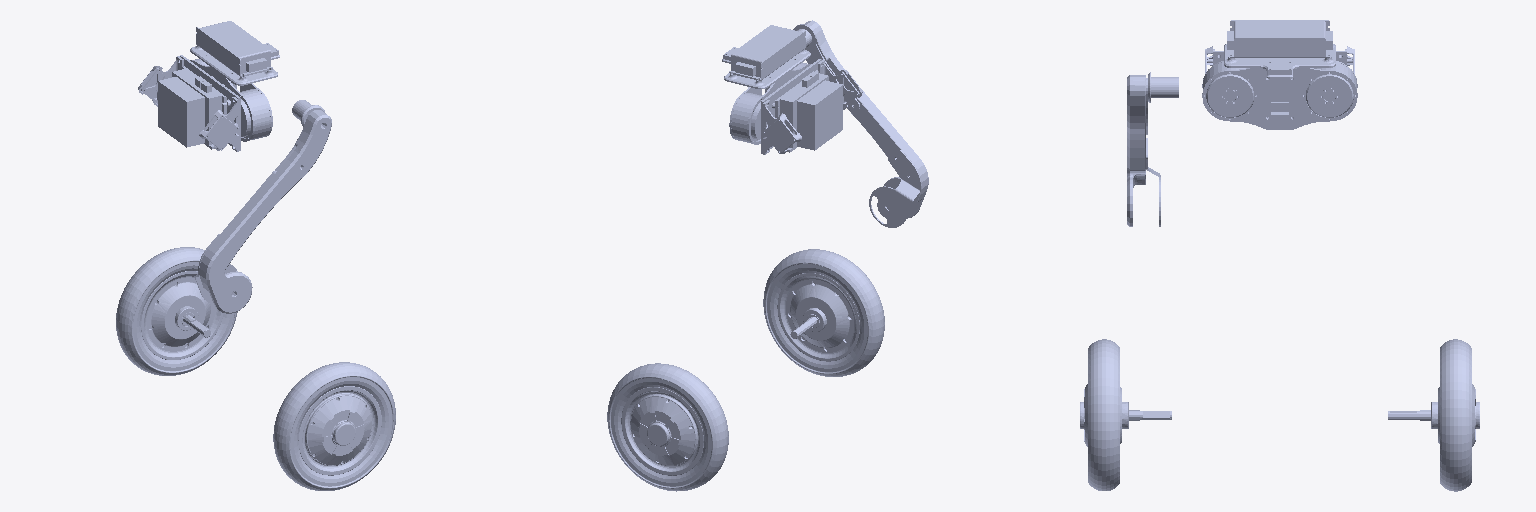
robot.urdf — postech:
<?xml version="1.0" encoding="utf-8"?>
<!-- This URDF was automatically created by SolidWorks to URDF Exporter! Originally created by [author] ([email redacted]) 
     Commit Version: 1.6.0-4-g7f85cfe  Build Version: 1.6.7995.38578
     For more information, please see http://wiki.ros.org/sw_urdf_exporter -->
<robot
  name="postech">
  <link
    name="base_link">
    <inertial>
      <origin
        xyz="-0.0142272515774434 0.0101542033488006 -0.0630295999662357"
        rpy="0 0 0" />
      <mass
        value="6.62193156601497" />
      <inertia
        ixx="0.0308406147889979"
        ixy="-4.33334637561888E-06"
        ixz="-0.000254438591214876"
        iyy="0.0522715304285259"
        iyz="4.98143371539839E-06"
        izz="0.0754369896094162" />
    </inertial>
    <visual>
      <origin
        xyz="0 0 0"
        rpy="0 0 0" />
      <geometry>
        <mesh
          filename="../meshes/base_link.STL" />
      </geometry>
      <material
        name="">
        <color
          rgba="0.7921156862745098 0.819607843137255 0.933333333333333 1" />
      </material>
    </visual>
    <collision>
      <origin
        xyz="0 0 0"
        rpy="0 0 0" />
      <geometry>
        <mesh
          filename="../meshes/base_link.STL" />
      </geometry>
    </collision>
  </link>
  <!-- <link
    name="caster_link">
    <inertial>
      <origin
        xyz="0.018332520349586 -0.00366899369316767 0.0442369188938376"
        rpy="0 0 0" />
      <mass
        value="0.189848673195412" />
      <inertia
        ixx="0.000146524203814338"
        ixy="9.21819088189789E-06"
        ixz="-4.4919545007239E-05"
        iyy="0.000190740411051331"
        iyz="8.98968883326603E-06"
        izz="9.15330362508012E-05" />
    </inertial>
    <visual>
      <origin
        xyz="0 0 0"
        rpy="0 0 0" />
      <geometry>
        <mesh
          filename="../meshes/caster_link.STL" />
      </geometry>
      <material
        name="">
        <color
          rgba="0.792156862745098 0.819607843137255 0.933333333333333 1" />
      </material>
    </visual>
    <collision>
      <origin
        xyz="0 0 0"
        rpy="0 0 0" />
      <geometry>
        <mesh
          filename="../meshes/caster_link.STL" />
      </geometry>
    </collision>
  </link>
  <joint
    name="caster_joint"
    type="continuous">
    <origin
      xyz="0.3704 1.1432E-05 -0.11698"
      rpy="3.1416 0 0" />
    <parent
      link="base_link" />
    <child
      link="caster_link" />
    <axis
      xyz="0 0 1" />
    <limit
      effort="100"
      velocity="100" />
    <dynamics
      damping="0.0"
      friction="0.1" />
  </joint> -->
  <!-- <link
    name="scan_link">
    <inertial>
      <origin
        xyz="-4.2579680269994E-06 6.87757630013497E-08 -0.0155239251610854"
        rpy="0 0 0" />
      <mass
        value="0.108819249731694" />
      <inertia
        ixx="4.18429855029974E-05"
        ixy="-2.03050714439245E-10"
        ixz="-4.95073432009731E-09"
        iyy="4.18311603460125E-05"
        iyz="7.27299639414082E-11"
        izz="4.16831773936327E-05" />
    </inertial>
    <visual>
      <origin
        xyz="0 0 0"
        rpy="0 0 0" />
      <geometry>
        <mesh
          filename="../meshes/scan_link.STL" />
      </geometry>
      <material
        name="">
        <color
          rgba="0.792156862745098 0.819607843137255 0.933333333333333 1" />
      </material>
    </visual>
    <collision>
      <origin
        xyz="0 0 0"
        rpy="0 0 0" />
      <geometry>
        <mesh
          filename="../meshes/scan_link.STL" />
      </geometry>
    </collision>
  </link>
  <joint
    name="scan_joint"
    type="fixed">
    <origin
      xyz="-0.27341 0.00068596 0.036603"
      rpy="0 0 3.1416" />
    <parent
      link="base_link" />
    <child
      link="scan_link" />
    <axis
      xyz="0 0 0" />
  </joint> -->
  <link
    name="hip_r_link">
    <inertial>
      <origin
        xyz="-0.113080613473018 -0.137388764509428 0.0151988458264695"
        rpy="0 0 0" />
      <mass
        value="0.522076277648095" />
      <inertia
        ixx="0.00367939501373221"
        ixy="-0.0029197232425838"
        ixz="2.71752802177092E-05"
        iyy="0.00280686433355758"
        iyz="5.54555010993616E-05"
        izz="0.00640188889264564" />
    </inertial>
    <visual>
      <origin
        xyz="0 0 0"
        rpy="0 0 0" />
      <geometry>
        <mesh
          filename="../meshes/hip_r_link.STL" />
      </geometry>
      <material
        name="">
        <color
          rgba="0.792156862745098 0.819607843137255 0.933333333333333 1" />
      </material>
    </visual>
    <collision>
      <origin
        xyz="0 0 0"
        rpy="0 0 0" />
      <geometry>
        <mesh
          filename="../meshes/hip_r_link.STL" />
      </geometry>
    </collision>
  </link>
  <joint
    name="hip_r_joint"
    type="revolute">
    <origin
      xyz="-0.020921 -0.212 -0.04807"
      rpy="1.5708 0 0" />
    <parent
      link="base_link" />
    <child
      link="hip_r_link" />
    <axis
      xyz="0 0 1" />
    <limit
      lower="-0.523599"
      upper="0.523599"
      effort="200"
      velocity="200" />
    <dynamics
      damping="0.0"
      friction="0.0" />
  </joint>
  <link
    name="knee_r_link">
    <inertial>
      <origin
        xyz="0.10997 -0.16949 -0.032058"
        rpy="0 0 0" />
      <mass
        value="1.1404" />
      <inertia
        ixx="0.013985"
        ixy="0.007832"
        ixz="-1.7352E-05"
        iyy="0.0067208"
        iyz="2.8522E-05"
        izz="0.02059" />
    </inertial>
    <visual>
      <origin
        xyz="0 0 0"
        rpy="0 0 0" />
      <geometry>
        <mesh
          filename="../meshes/knee_r_link.STL" />
      </geometry>
      <material
        name="">
        <color
          rgba="0.79216 0.81961 0.93333 1" />
      </material>
    </visual>
    <collision>
      <origin
        xyz="0 0 0"
        rpy="0 0 0" />
      <geometry>
        <mesh
          filename="../meshes/knee_r_link.STL" />
      </geometry>
    </collision>
  </link>
  <joint
    name="knee_r_joint"
    type="revolute">
    <origin
      xyz="-0.18557 -0.29001 0.0336"
      rpy="0 0 0" />
    <parent
      link="hip_r_link" />
    <child
      link="knee_r_link" />
    <axis
      xyz="0 0 1" />
    <!-- lower="-0.20944"-->
    <limit
      lower="-0.20944" 
      upper="0.959931"
      effort="200"
      velocity="200" />
    <dynamics
      damping="0.0"
      friction="0.0" />
  </joint>
  <link
    name="wheel_r_link">
    <inertial>
      <origin
        xyz="-2.244E-06 -1.5013E-06 -0.039682"
        rpy="0 0 0" />
      <mass
        value="2.081" />
      <inertia
        ixx="0.0076786"
        ixy="1.4846E-08"
        ixz="-3.9144E-07"
        iyy="0.0076786"
        iyz="-2.6221E-07"
        izz="0.014375" />
    </inertial>
    <visual>
      <origin
        xyz="0 0 0"
        rpy="0 0 0" />
      <geometry>
        <mesh
          filename="../meshes/wheel_r_link.STL" />
      </geometry>
      <material
        name="">
        <color
          rgba="0.79216 0.81961 0.93333 1" />
      </material>
    </visual>
    <collision>
      <origin
        xyz="0 0 0"
        rpy="0 0 0" />
      <geometry>
        <mesh
          filename="../meshes/wheel_r_link.STL" />
      </geometry>
    </collision>
  </link>
  <joint
    name="wheel_r_joint"
    type="continuous">
    <origin
      xyz="0.18657 -0.29139 0.0768"
      rpy="0 0 0" />
    <parent
      link="knee_r_link" />
    <child
      link="wheel_r_link" />
    <axis
      xyz="0 0 1" />
    <limit
      effort="1000"
      velocity="100" />
    <dynamics
      damping="0.0"
      friction="0.0" />
  </joint>
  <link
    name="hip_l_link">
    <inertial>
      <origin
        xyz="-0.113080613473018 0.137388764509428 0.0151988458264695"
        rpy="0 0 0" />
      <mass
        value="0.522076277648095" />
      <inertia
        ixx="0.00367939501373221"
        ixy="0.0029197232425838"
        ixz="2.71752802177092E-05"
        iyy="0.00280686433355758"
        iyz="-5.54555010993616E-05"
        izz="0.00640188889264564" />
    </inertial>
    <visual>
      <origin
        xyz="0 0 0"
        rpy="0 0 0" />
      <geometry>
        <mesh
          filename="../meshes/hip_l_link.STL" />
      </geometry>
      <material
        name="">
        <color
          rgba="0.792156862745098 0.819607843137255 0.933333333333333 1" />
      </material>
    </visual>
    <collision>
      <origin
        xyz="0 0 0"
        rpy="0 0 0" />
      <geometry>
        <mesh
          filename="../meshes/hip_l_link.STL" />
      </geometry>
    </collision>
  </link>
  <joint
    name="hip_l_joint"
    type="revolute">
    <origin
      xyz="-0.020921 0.212 -0.04807"
      rpy="-1.5708 0 0" />
    <parent
      link="base_link" />
    <child
      link="hip_l_link" />
    <axis
      xyz="0 0 1" />
    <limit
      lower="-0.523599"
      upper="0.523599"
      effort="200"
      velocity="200" />
    <dynamics
      damping="0.0"
      friction="0.0" />
  </joint>
  <link
    name="knee_l_link">
    <inertial>
      <origin
        xyz="0.10997 0.16949 -0.032058"
        rpy="0 0 0" />
      <mass
        value="1.1404" />
      <inertia
        ixx="0.013985"
        ixy="-0.007832"
        ixz="-1.7352E-05"
        iyy="0.0067208"
        iyz="-2.8522E-05"
        izz="0.02059" />
    </inertial>
    <visual>
      <origin
        xyz="0 0 0"
        rpy="0 0 0" />
      <geometry>
        <mesh
          filename="../meshes/knee_l_link.STL" />
      </geometry>
      <material
        name="">
        <color
          rgba="0.79216 0.81961 0.93333 1" />
      </material>
    </visual>
    <collision>
      <origin
        xyz="0 0 0"
        rpy="0 0 0" />
      <geometry>
        <mesh
          filename="../meshes/knee_l_link.STL" />
      </geometry>
    </collision>
  </link>
  <joint
    name="knee_l_joint"
    type="revolute">
    <origin
      xyz="-0.18557 0.29001 0.0336"
      rpy="0 0 0" />
    <parent
      link="hip_l_link" />
    <child
      link="knee_l_link" />
    <axis
      xyz="0 0 1" />
    <limit
      lower="-0.20944"
      upper="0.959931"
      effort="200"
      velocity="200" />
    <dynamics
      damping="0.0"
      friction="0.0" />
  </joint>
  <link
    name="wheel_l_link">
    <inertial>
      <origin
        xyz="-2.244E-06 1.5013E-06 -0.039682"
        rpy="0 0 0" />
      <mass
        value="2.081" />
      <inertia
        ixx="0.0076786"
        ixy="-1.4846E-08"
        ixz="-3.9144E-07"
        iyy="0.0076786"
        iyz="2.6221E-07"
        izz="0.014375" />
    </inertial>
    <visual>
      <origin
        xyz="0 0 0"
        rpy="0 0 0" />
      <geometry>
        <mesh
          filename="../meshes/wheel_l_link.STL" />
      </geometry>
      <material
        name="">
        <color
          rgba="0.79216 0.81961 0.93333 1" />
      </material>
    </visual>
    <collision>
      <origin
        xyz="0 0 0"
        rpy="0 0 0" />
      <geometry>
        <mesh
          filename="../meshes/wheel_l_link.STL" />
      </geometry>
    </collision>
  </link>
  <joint
    name="wheel_l_joint"
    type="continuous">
    <origin
      xyz="0.18657 0.29139 0.0768"
      rpy="0 0 0" />
    <parent
      link="knee_l_link" />
    <child
      link="wheel_l_link" />
    <axis
      xyz="0 0 1" />
    <limit
      effort="1000"
      velocity="100" />
    <dynamics
      damping="0.0"
      friction="0.0" />
  </joint>
</robot>

--- What the picture shows (computed from the rendered views, not written in the file) ---
Views: 3 orthographic renders of the robot side by side, from view 1: azimuth 30°, elevation 25°; view 2: azimuth 150°, elevation 25°; view 3: azimuth 270°, elevation 25°.
Model postech with 7 links and 6 joints (4 revolute, 2 continuous), rooted at base_link, posed every joint at zero.
Links seen in each view (by area): view 1: wheel_r_link, base_link, wheel_l_link, hip_r_link; view 2: wheel_r_link, wheel_l_link, base_link, hip_r_link; view 3: base_link, wheel_l_link, wheel_r_link, hip_r_link.
Boxes of the visible links, x1,y1,x2,y2 form: wheel_r_link: (273, 362, 395, 490); base_link: (138, 21, 279, 151); wheel_l_link: (116, 247, 237, 375); hip_r_link: (194, 100, 331, 313); wheel_r_link: (763, 249, 884, 376); wheel_l_link: (607, 363, 728, 491); base_link: (722, 25, 862, 154); hip_r_link: (793, 20, 928, 227); base_link: (1202, 20, 1357, 129); wheel_l_link: (1388, 339, 1479, 491); wheel_r_link: (1080, 339, 1171, 490); hip_r_link: (1127, 72, 1178, 226).
Bounding box of the posed robot: 0.365 × 0.6448 × 0.7865 m (x, y, z).
Meshes: 7 distinct files referenced, 4 mesh visuals loaded (4 binary STL); not drawn: 3 (reference not matched to a file when rendering).
